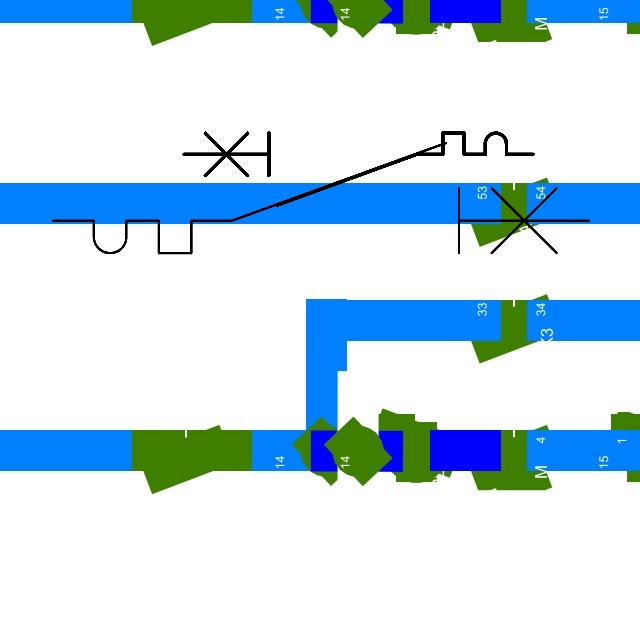interruptor_termomagnetico: (39, 129, 602, 267), (175, 124, 542, 214)
